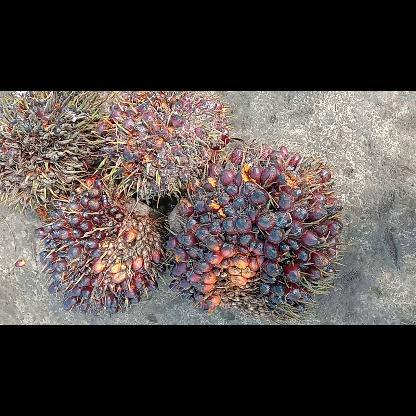Kurang masak: (35, 177, 165, 313), (104, 90, 230, 198)
TBS abnormal: (0, 91, 109, 214)
TBS masak: (165, 145, 344, 315)
